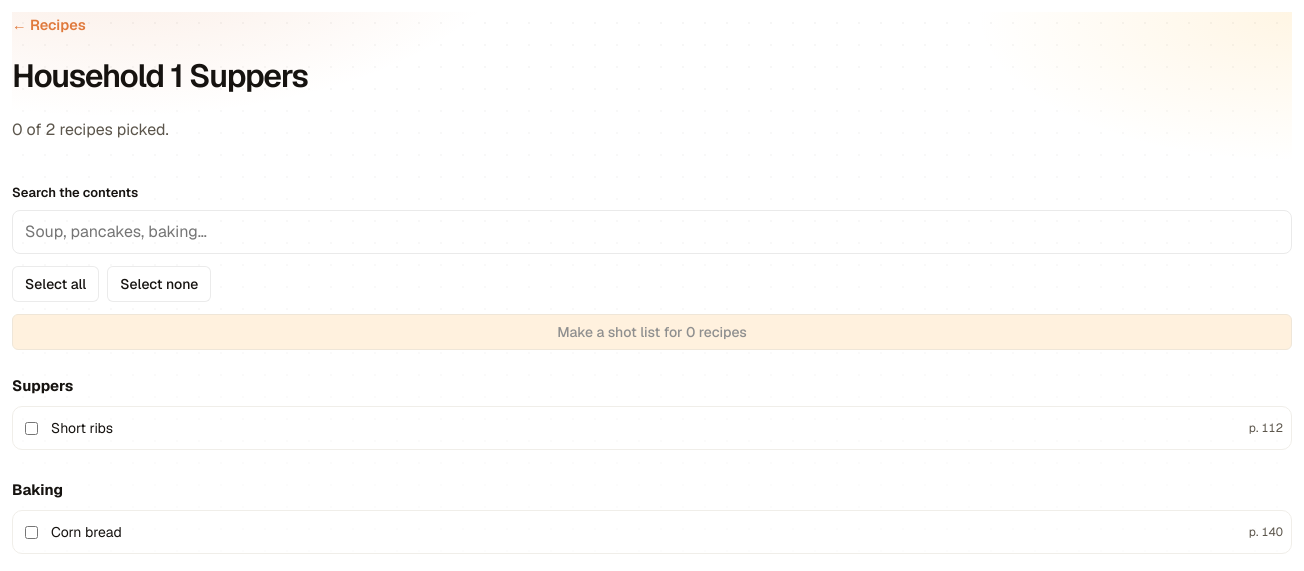
Test: BookShotList picks › shows the pick error when the save fails
Click the button "Select all": click(56, 284) [12,266,99,302]
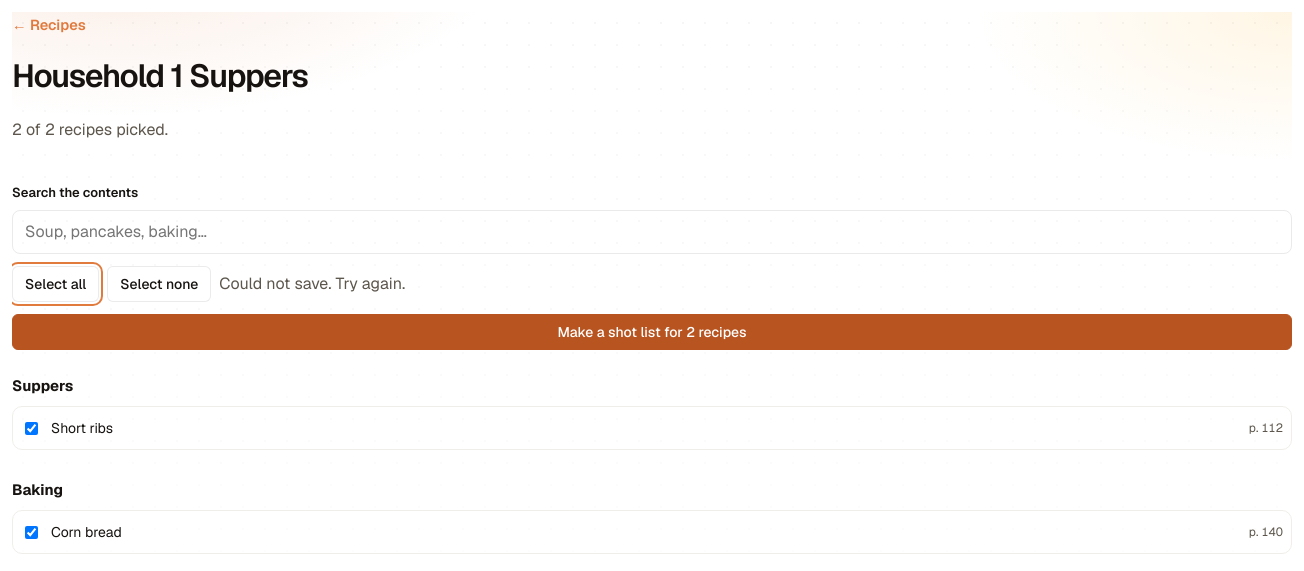
Now the text "Could not save. Try again." is shown, box [219,271,405,297]
Now the text "2 of 2 recipes picked." is shown, box [12,119,168,140]
